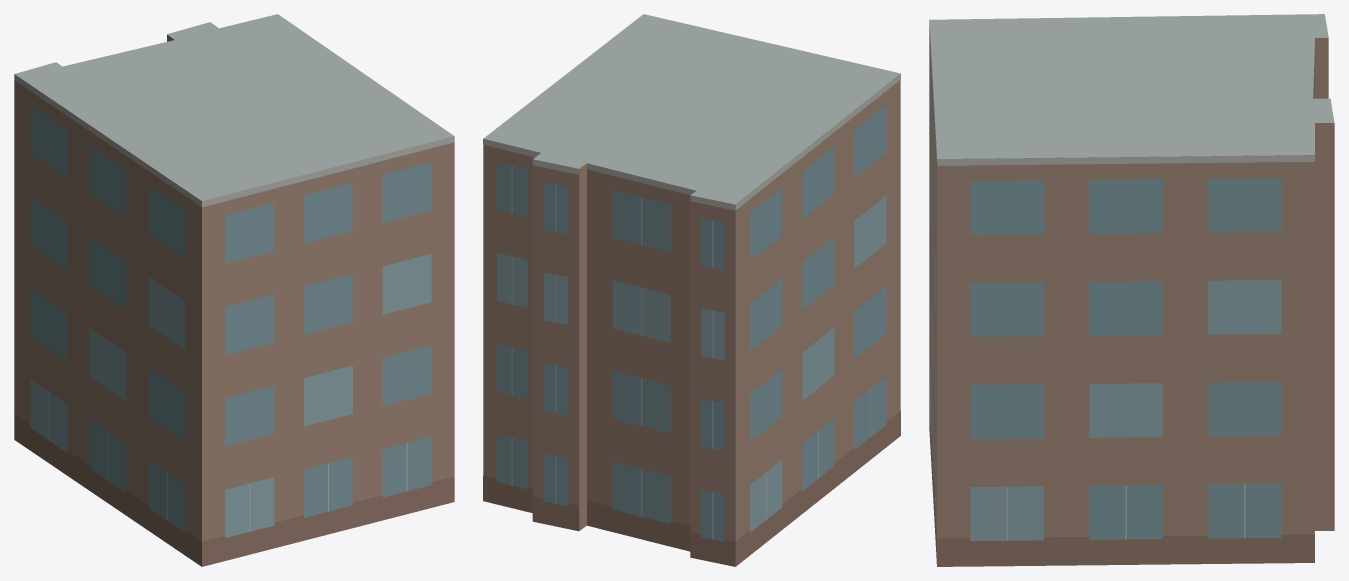
Rendered from survey-upis-32543578.glb.
The picture shows the model from 3 angles, left to right: view 1: azimuth 30°, elevation 25°; view 2: azimuth 150°, elevation 25°; view 3: azimuth 270°, elevation 25°; orthographic projection. The views are drawn at different scales.
Parts seen in each view (by area): view 1: survey-upis-32543578.tmp; view 2: survey-upis-32543578.tmp; view 3: survey-upis-32543578.tmp.
Part boxes in pixels (<box>): survey-upis-32543578.tmp: <box>14,14,454,566</box>; survey-upis-32543578.tmp: <box>483,14,900,566</box>; survey-upis-32543578.tmp: <box>929,14,1334,566</box>.
Size of the model in its own units: 11.19 by 14.65 by 13.2.
